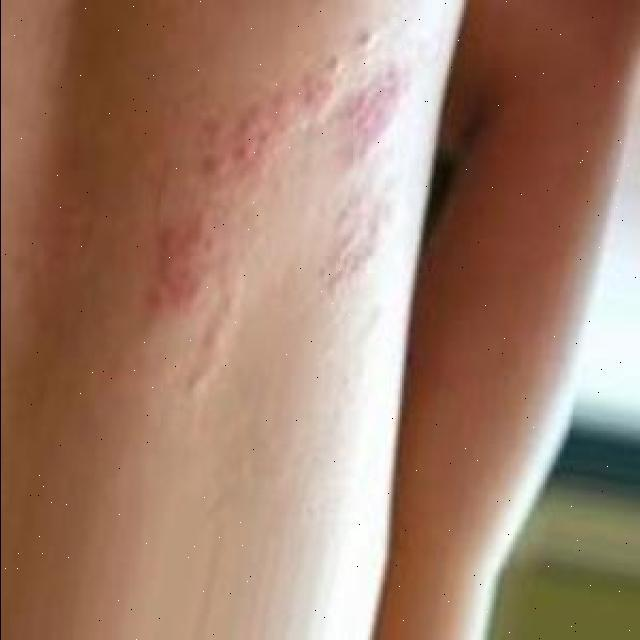Shingles: (138, 21, 393, 395)
